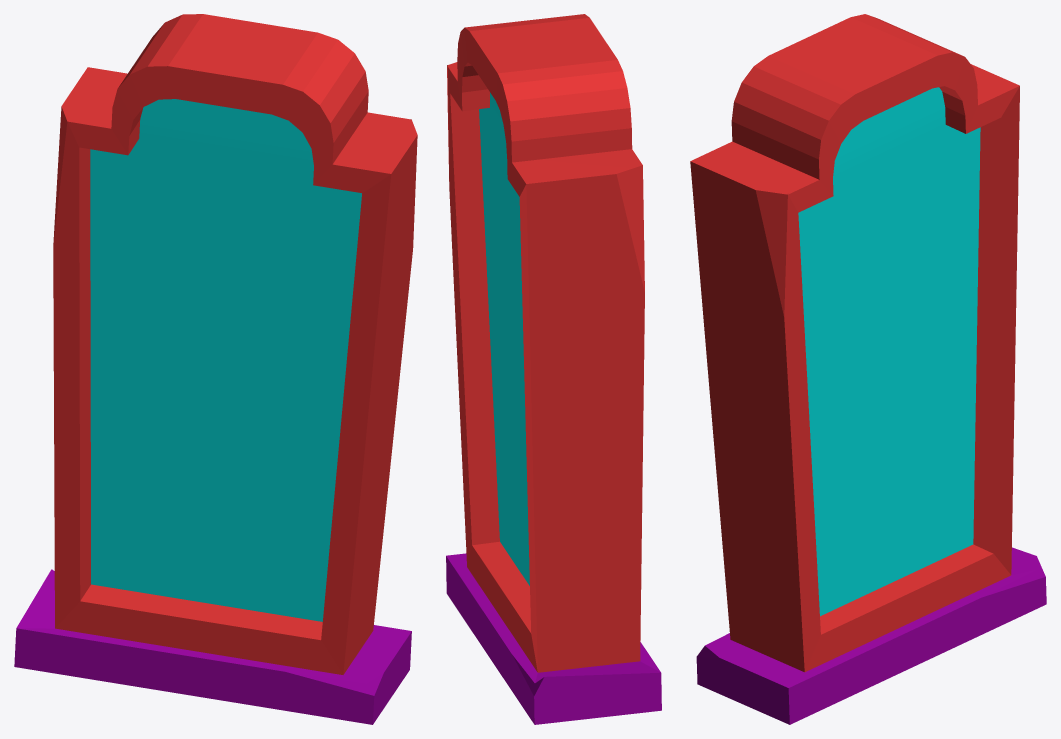
File: Fence.fbx
The picture shows the model from 3 angles, left to right: view 1: azimuth 30°, elevation 25°; view 2: azimuth 150°, elevation 25°; view 3: azimuth 270°, elevation 25°; orthographic projection. The views are drawn at different scales.
Parts seen in each view (by area): view 1: Gravestone_2; view 2: Gravestone_2; view 3: Gravestone_2.
Part boxes in pixels (box(x1,y1,x2,y2)): Gravestone_2: box(14, 14, 417, 724); Gravestone_2: box(446, 14, 661, 724); Gravestone_2: box(690, 14, 1046, 724).
Bounding box in the file's own units: 0.601 × 1.16 × 0.6182.
